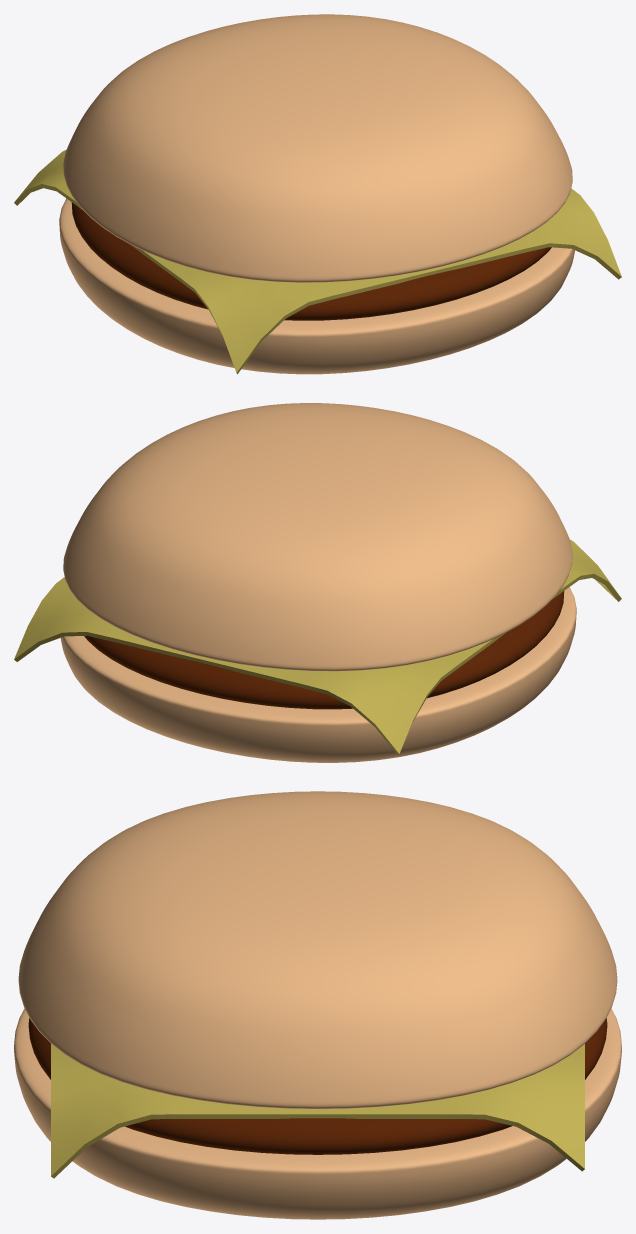
File: hamburger.glb
The picture shows the model from 3 angles, top to bottom: view 1: azimuth 30°, elevation 25°; view 2: azimuth 150°, elevation 25°; view 3: azimuth 270°, elevation 25°; orthographic projection. The views are drawn at different scales.
Visible parts, largest first — view 1: Cube.002, Cube, Plane, Cube.001; view 2: Cube.002, Cube, Plane, Cube.001; view 3: Cube.002, Cube, Plane, Cube.001.
Part boxes in pixels (x1,y1,x2,y2): Cube.002: (63, 14, 572, 282); Cube: (59, 198, 574, 374); Plane: (14, 149, 621, 374); Cube.001: (71, 202, 551, 320); Cube.002: (63, 403, 572, 671); Cube: (60, 587, 576, 762); Plane: (14, 539, 621, 755); Cube.001: (84, 591, 564, 709); Cube.002: (18, 791, 617, 1108); Cube: (14, 1008, 621, 1219); Plane: (51, 1044, 584, 1178); Cube.001: (28, 1018, 607, 1154).
Bounding box in the file's own units: 9.2 × 4.6 × 9.2.
